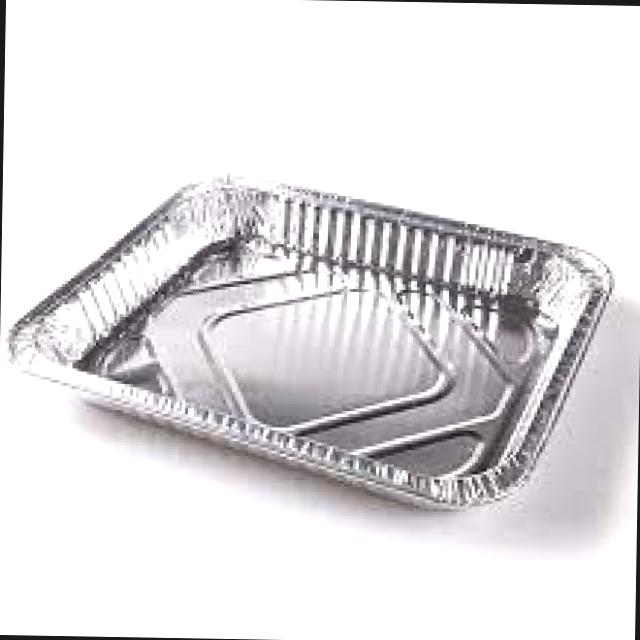kim_loai: (5, 173, 611, 515)
